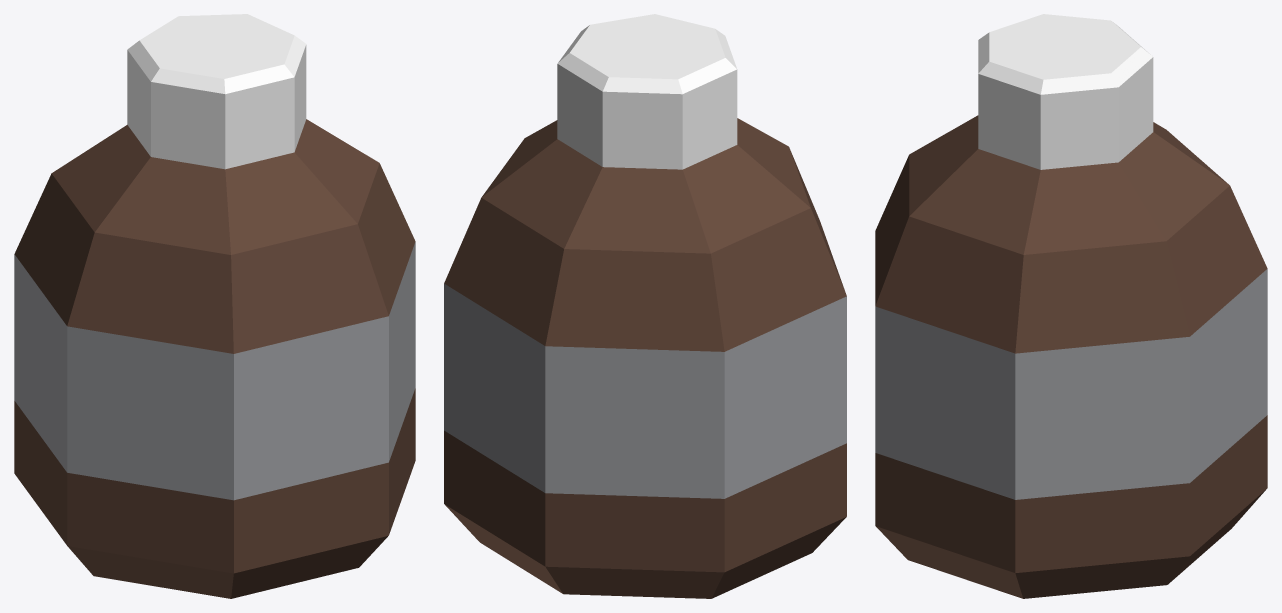
The model's file is Medicine_2.fbx.
3 views of the same model, side by side, from view 1: azimuth 30°, elevation 25°; view 2: azimuth 150°, elevation 25°; view 3: azimuth 270°, elevation 25° (orthographic).
Parts seen in each view (by area): view 1: Medicine_2; view 2: Medicine_2; view 3: Medicine_2.
Boxes of the visible parts, box(x1,y1,x2,y2) form: Medicine_2: box(14, 14, 415, 598); Medicine_2: box(444, 14, 846, 598); Medicine_2: box(875, 14, 1267, 598).
Size of the model in its own units: 5.35 by 7.07 by 5.21.
